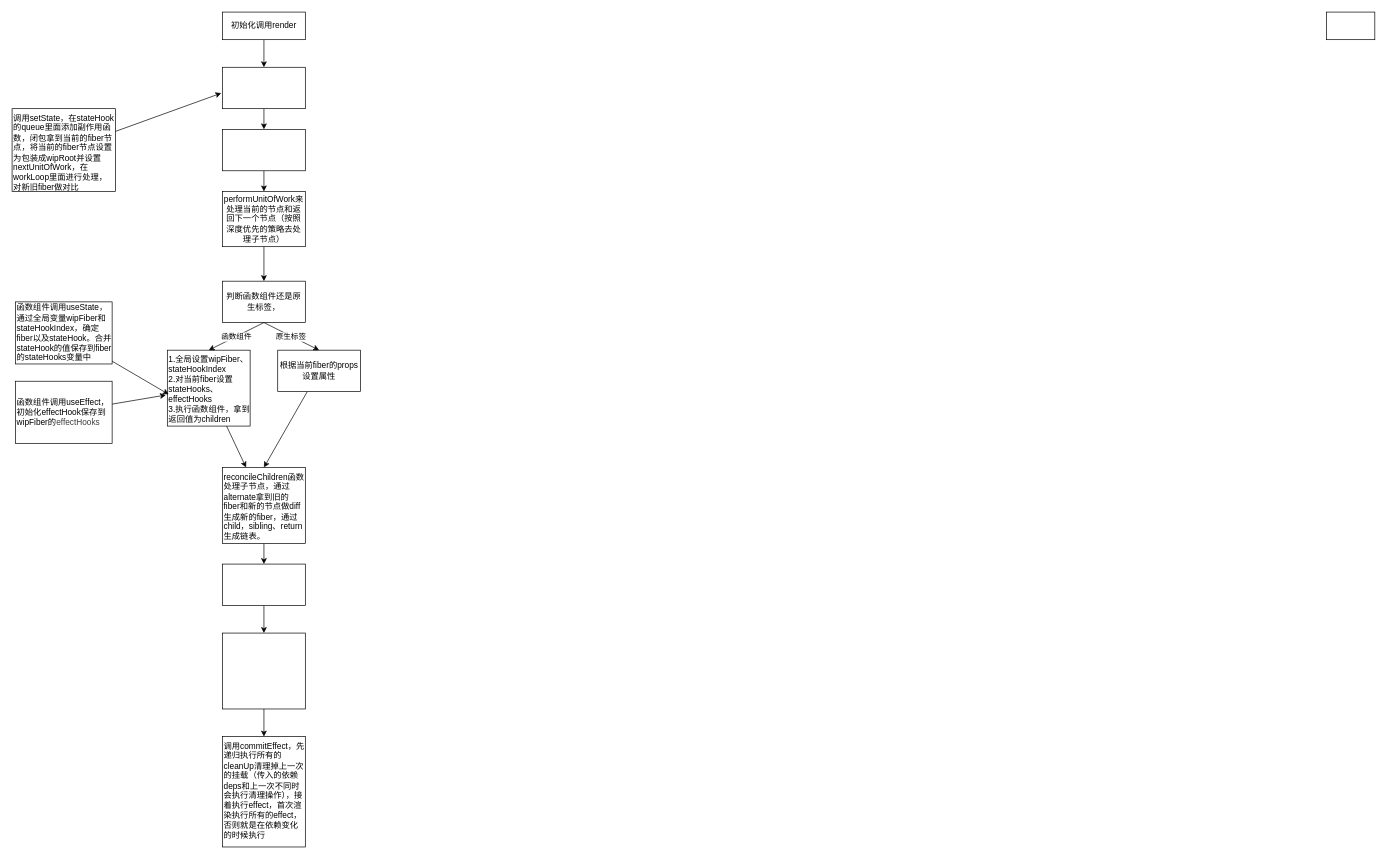
The diagram is 1387 pixels wide and 859 high, and some of its shapes have lost their labels. The centre of each missing label's shape, as x and y in pixels:
"requestIdleCallback循环调用workloop分批处理reactElement转fiber" belongs at point 263,150.
"初始化render" belongs at point 1350,25.
"初始化wipRoot，nextUnitOfWork" belongs at point 263,88.
"深度优先遍历虚拟dom，生成完整的fiber链表" belongs at point 263,584.
"调用commitRoot， 1.根据deletions删除节点 2. 深度优先遍历子节点，通过fiber的effectTag来做不同的操作。" belongs at point 263,670.
